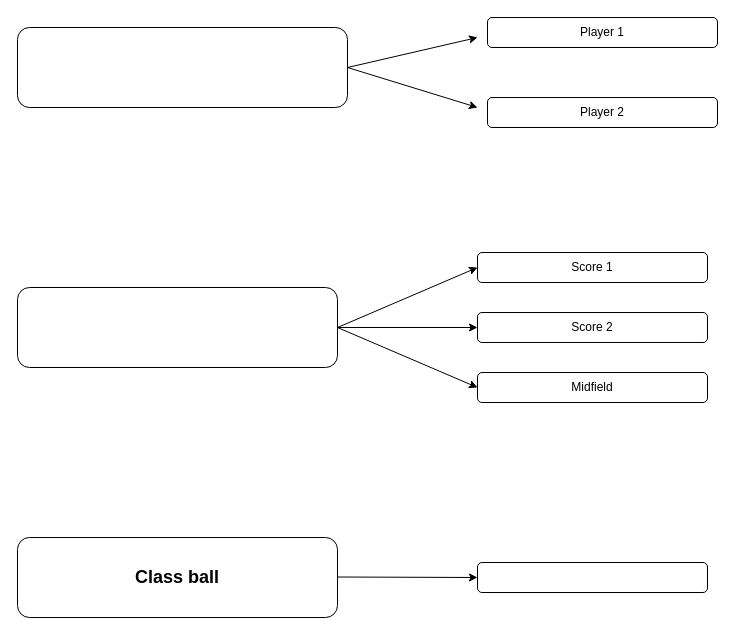
Some shapes in this 735 by 635 pixel diagram are drawn without their labels. Here are the shapes that lost their labels. From the top down, the box of each, then its label:
(16, 26, 348, 108): Class player
(16, 286, 338, 368): Class field
(476, 562, 708, 592): Ball
